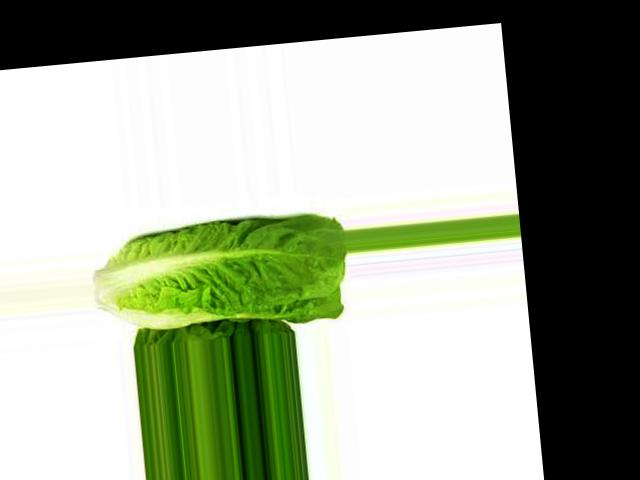lettuce: (123, 192, 290, 333)
